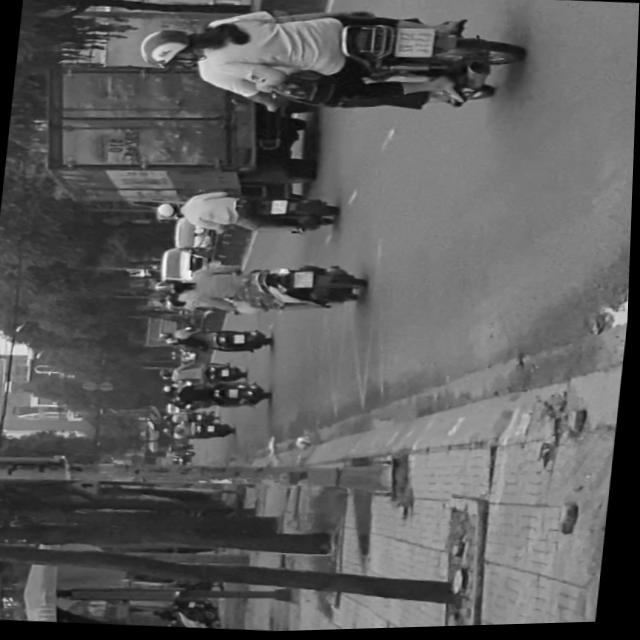helmet: (136, 25, 207, 70), (153, 276, 188, 297), (155, 201, 183, 220)
licenseplate: (127, 0, 530, 133), (150, 251, 367, 323), (152, 183, 341, 243)
nohelmet: (393, 29, 432, 60), (293, 272, 316, 289), (271, 200, 288, 216)
